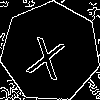X: (25, 27, 70, 81)
